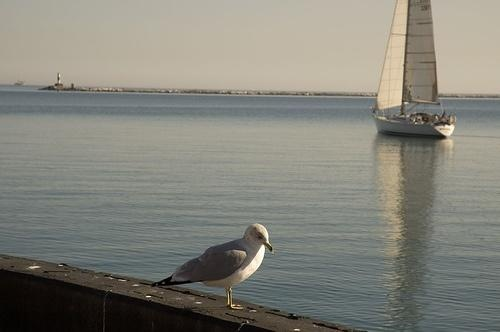bird: (141, 222, 277, 318)
boat: (371, 2, 459, 141)
